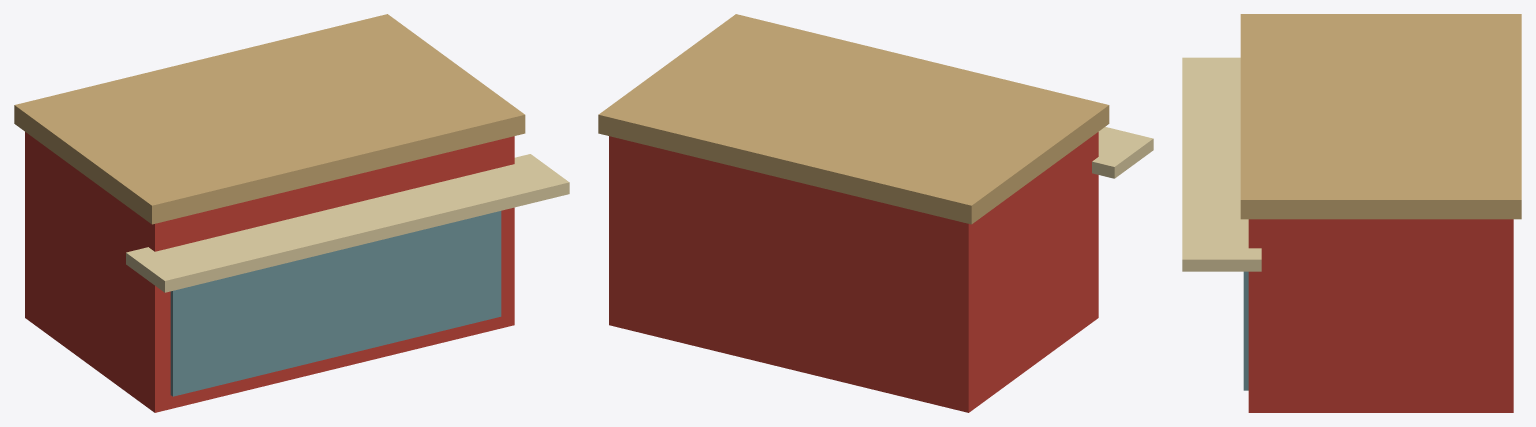
3 renders of one model, left to right at view 1: azimuth 30°, elevation 25°; view 2: azimuth 150°, elevation 25°; view 3: azimuth 270°, elevation 25°, orthographic. The views are drawn at different scales.
Parts seen in each view (by area): view 1: RC-011 Streamline corner diner batched; view 2: RC-011 Streamline corner diner batched; view 3: RC-011 Streamline corner diner batched.
Boxes of the visible parts, x1,y1,x2,y2 form: RC-011 Streamline corner diner batched: (14, 14, 569, 412); RC-011 Streamline corner diner batched: (598, 14, 1153, 412); RC-011 Streamline corner diner batched: (1182, 14, 1521, 412).
Size of the model in its own units: 9 by 4.5 by 6.4.
